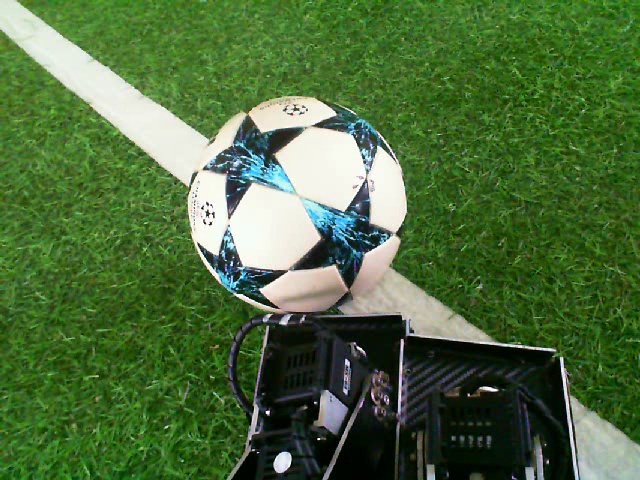ball: (185, 93, 409, 317)
